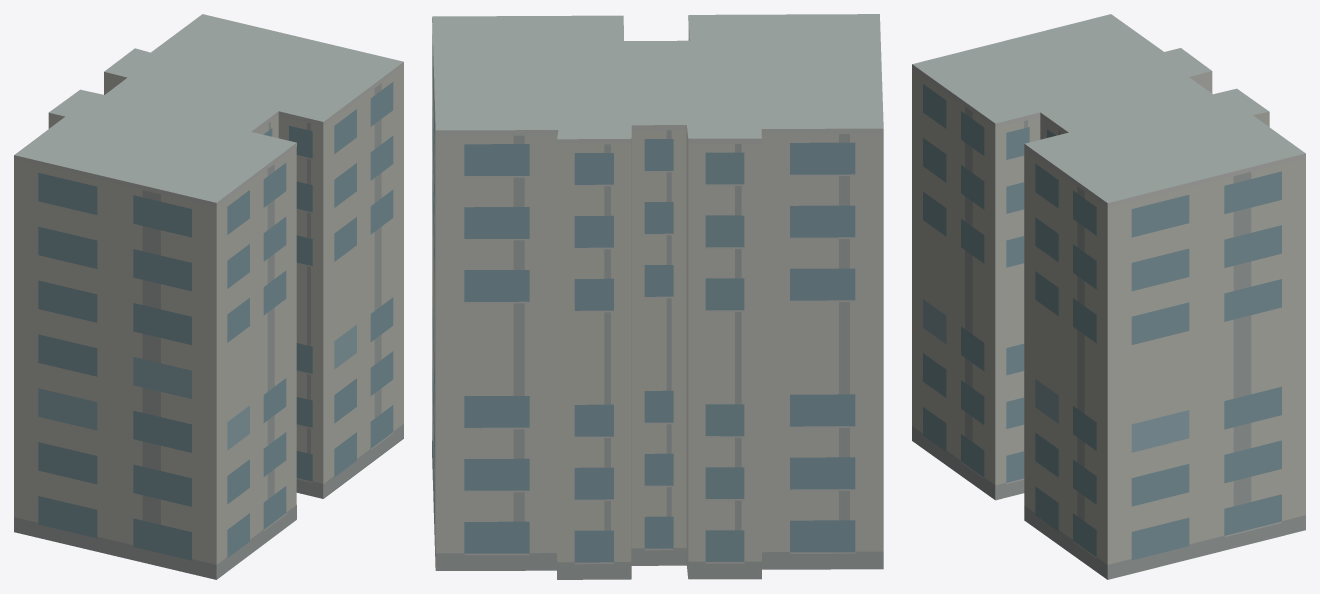
Rendered from survey-upis-32538263.glb.
3 renders of one model, left to right at view 1: azimuth 30°, elevation 25°; view 2: azimuth 150°, elevation 25°; view 3: azimuth 270°, elevation 25°, orthographic. The views are drawn at different scales.
Parts seen in each view (by area): view 1: survey-upis-32538263.tmp; view 2: survey-upis-32538263.tmp; view 3: survey-upis-32538263.tmp.
Boxes of the visible parts, x1=… form: survey-upis-32538263.tmp: x1=14, y1=14, x2=403, y2=579; survey-upis-32538263.tmp: x1=432, y1=14, x2=883, y2=579; survey-upis-32538263.tmp: x1=912, y1=14, x2=1305, y2=579.
Bounding box in the file's own units: 21.33 × 19.8 × 18.76.
